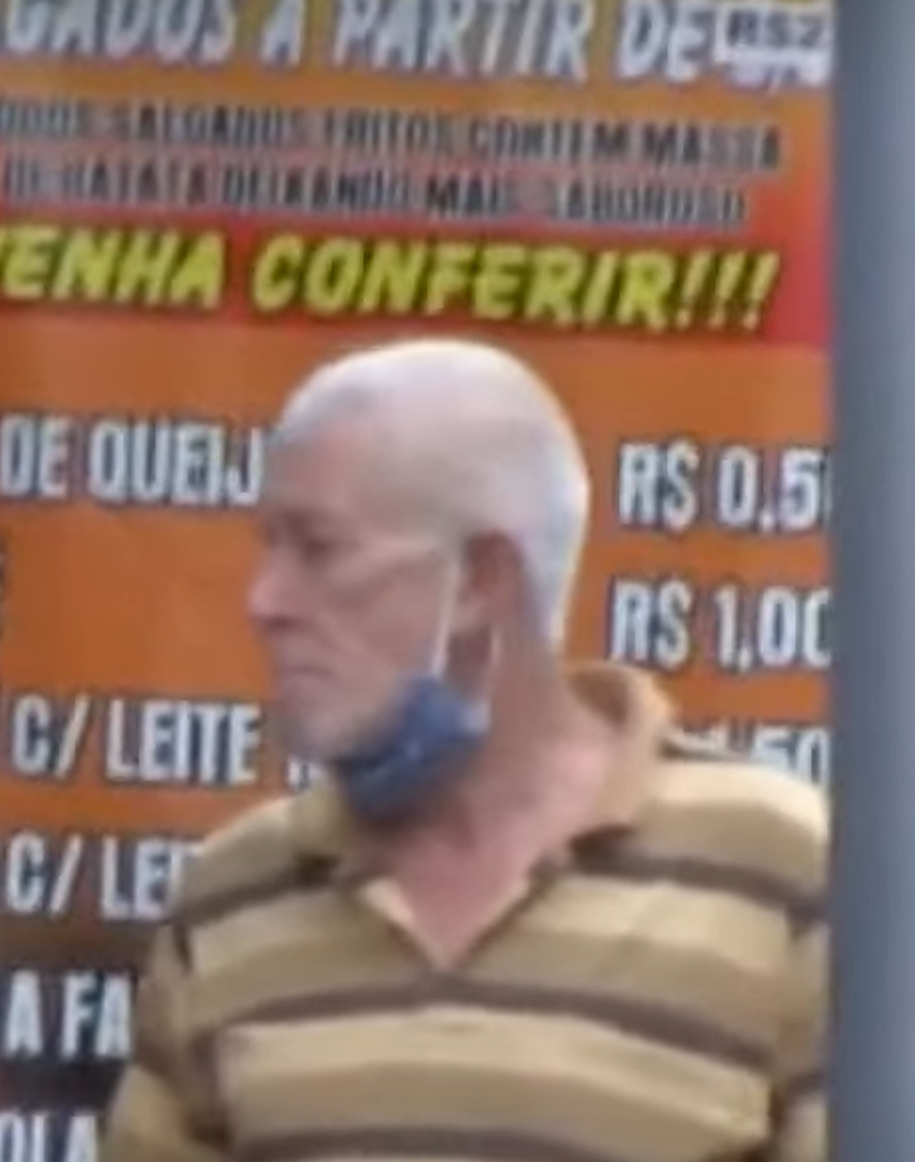mask_weared_incorrect: (234, 423, 548, 831)
